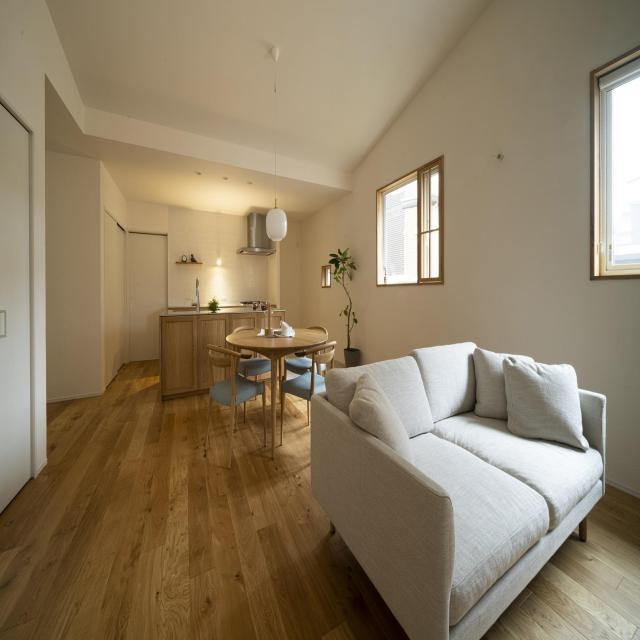natural chair: (202, 344, 267, 463)
natural desk: (224, 324, 318, 446)
natural sofa: (308, 337, 607, 640)
